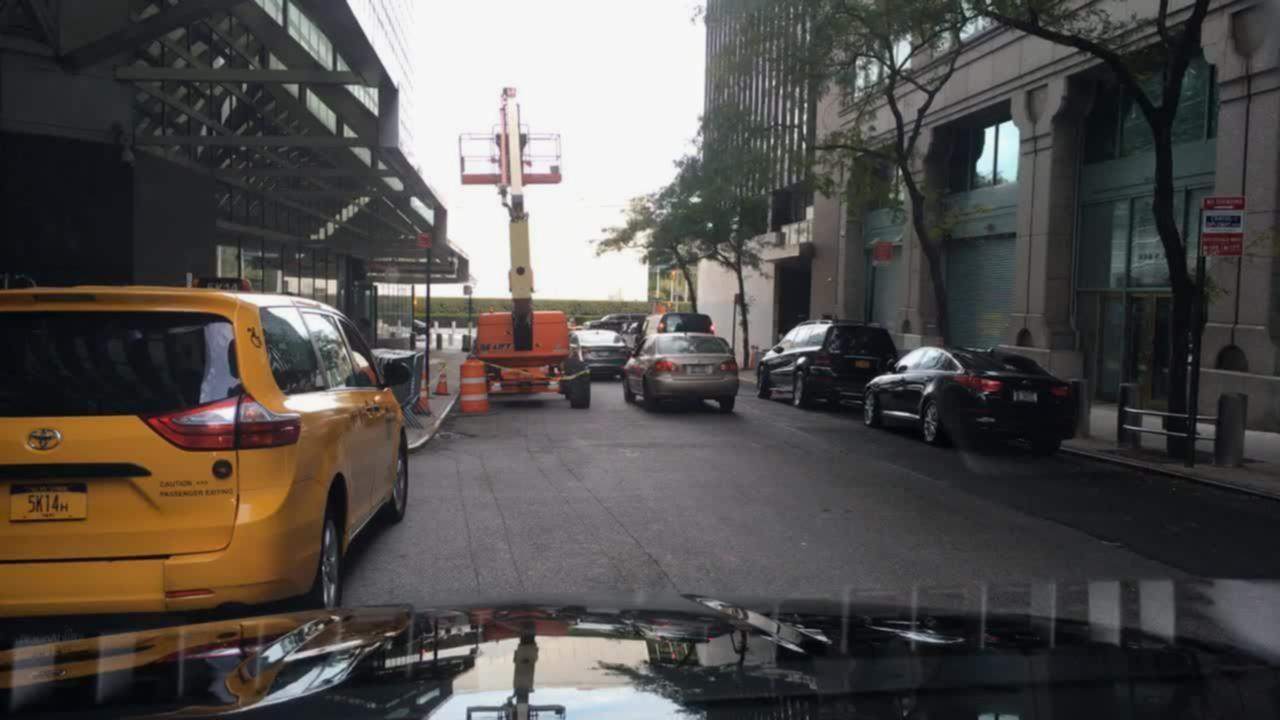Toyota: (17, 418, 82, 463)
